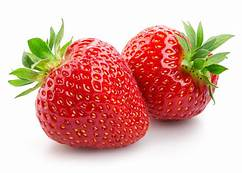Fresa: (29, 34, 154, 157), (120, 23, 225, 130)
